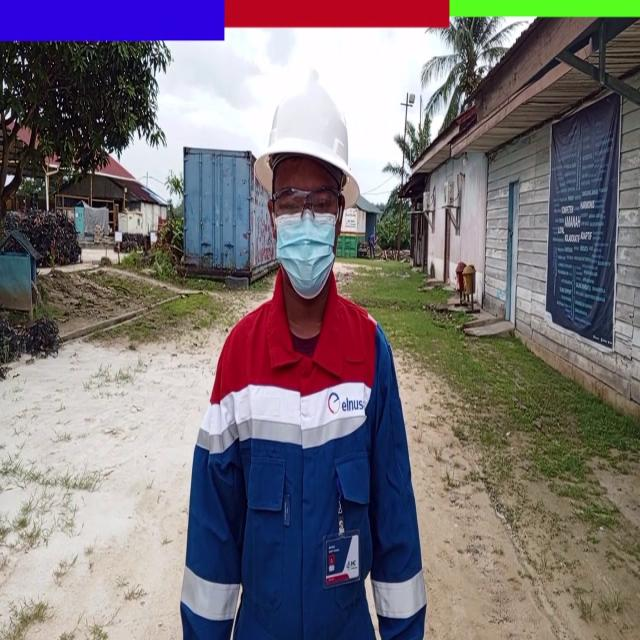Hardhat: (254, 74, 360, 211)
Mask: (276, 217, 335, 296)
Overall Suit: (181, 290, 427, 640)
